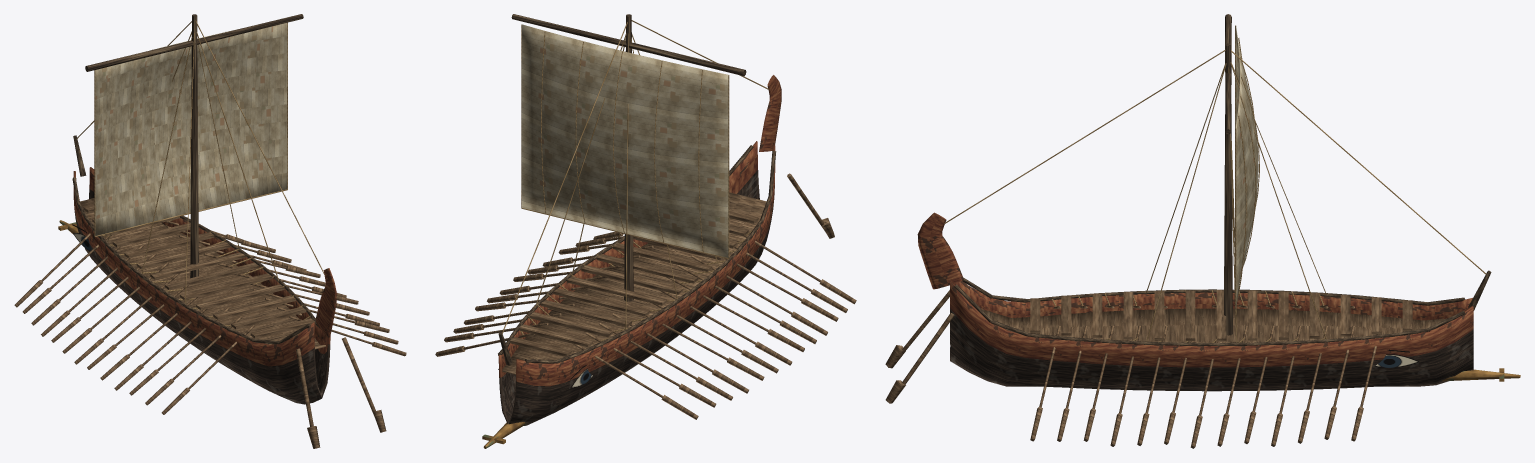
The model's file is nave_scura_occhio.gltf.
3 renders of one model, left to right at view 1: azimuth 30°, elevation 25°; view 2: azimuth 150°, elevation 25°; view 3: azimuth 270°, elevation 25°, orthographic. The views are drawn at different scales.
Visible parts, largest first — view 1: nave_scura_occhio; view 2: nave_scura_occhio; view 3: nave_scura_occhio.
Part boxes in pixels (x1,y1,x2,y2): nave_scura_occhio: (14,14,406,448); nave_scura_occhio: (435,14,856,448); nave_scura_occhio: (885,14,1520,448).
Size of the model in its own units: 8.31 by 9.18 by 15.44.
8 materials, 8 textured.
